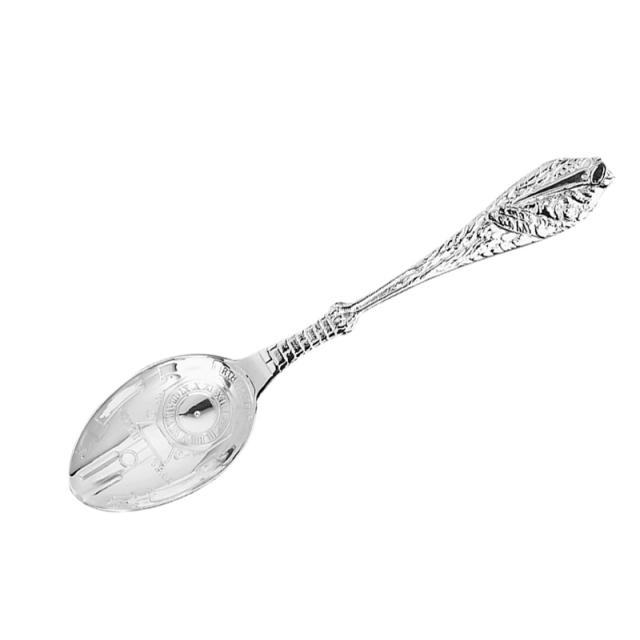spoon: (44, 147, 608, 530)
